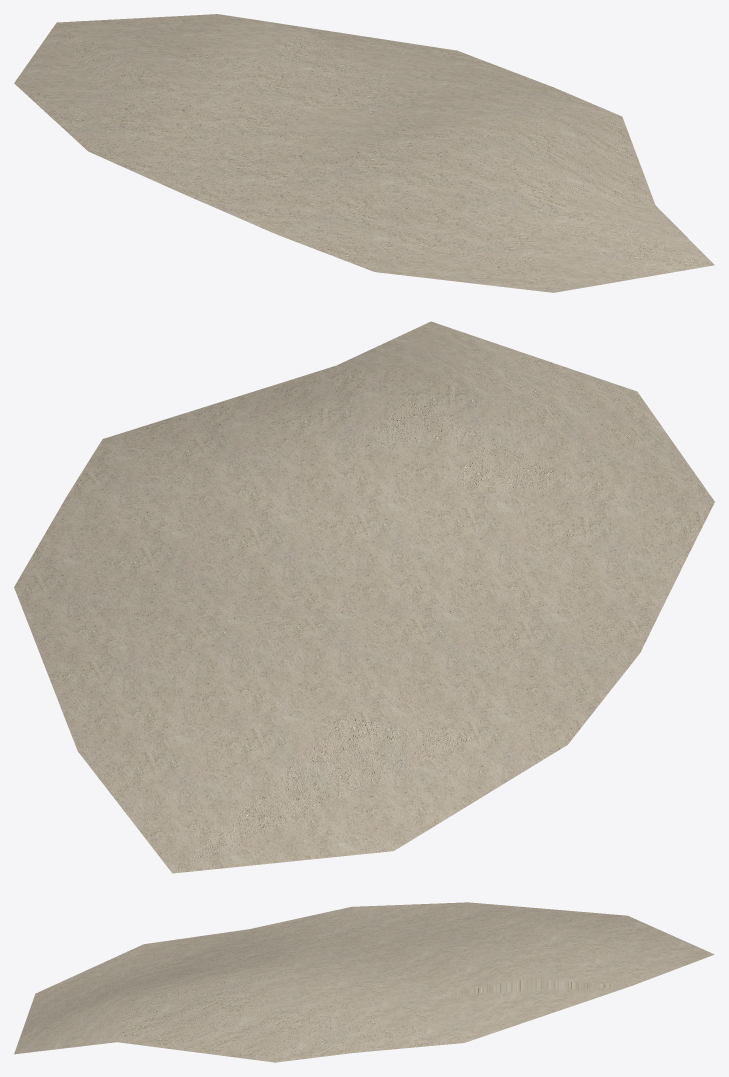
Rendered from shadui01.fbx.
3 views of the same model, one above another, from view 1: azimuth 30°, elevation 25°; view 2: azimuth 150°, elevation 25°; view 3: azimuth 270°, elevation 25° (orthographic). The views are drawn at different scales.
Visible parts, largest first — view 1: polySurface5; view 2: polySurface5; view 3: polySurface5.
Boxes of the visible parts, x1,y1,x2,y2 form: polySurface5: [14, 14, 714, 292]; polySurface5: [14, 321, 714, 873]; polySurface5: [14, 902, 714, 1062].
Size of the model in its own units: 6684 by 724 by 11412.
